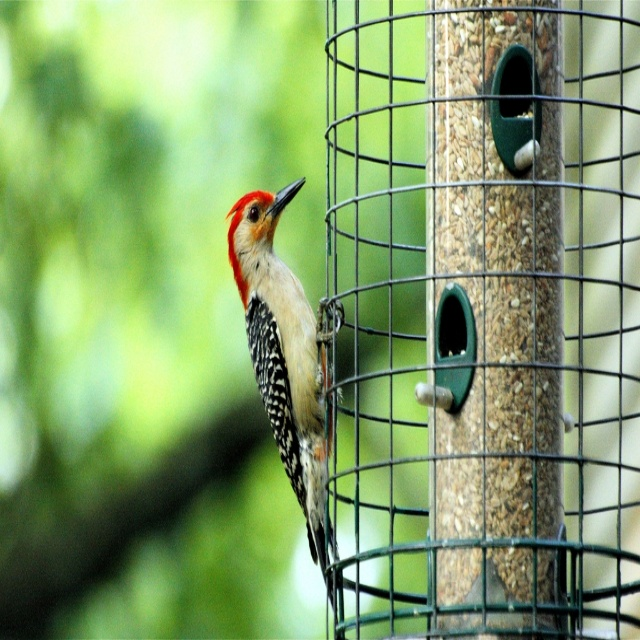Woodpecker: (223, 177, 345, 624)
